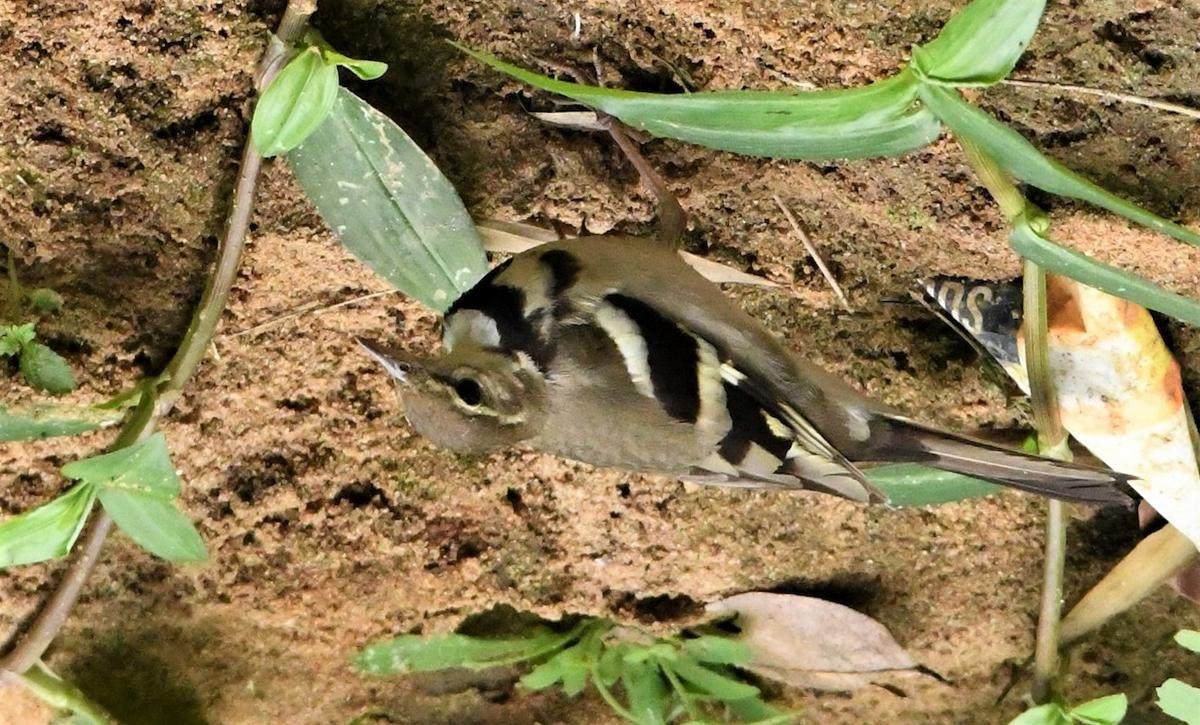wagtail: (335, 197, 1057, 569)
